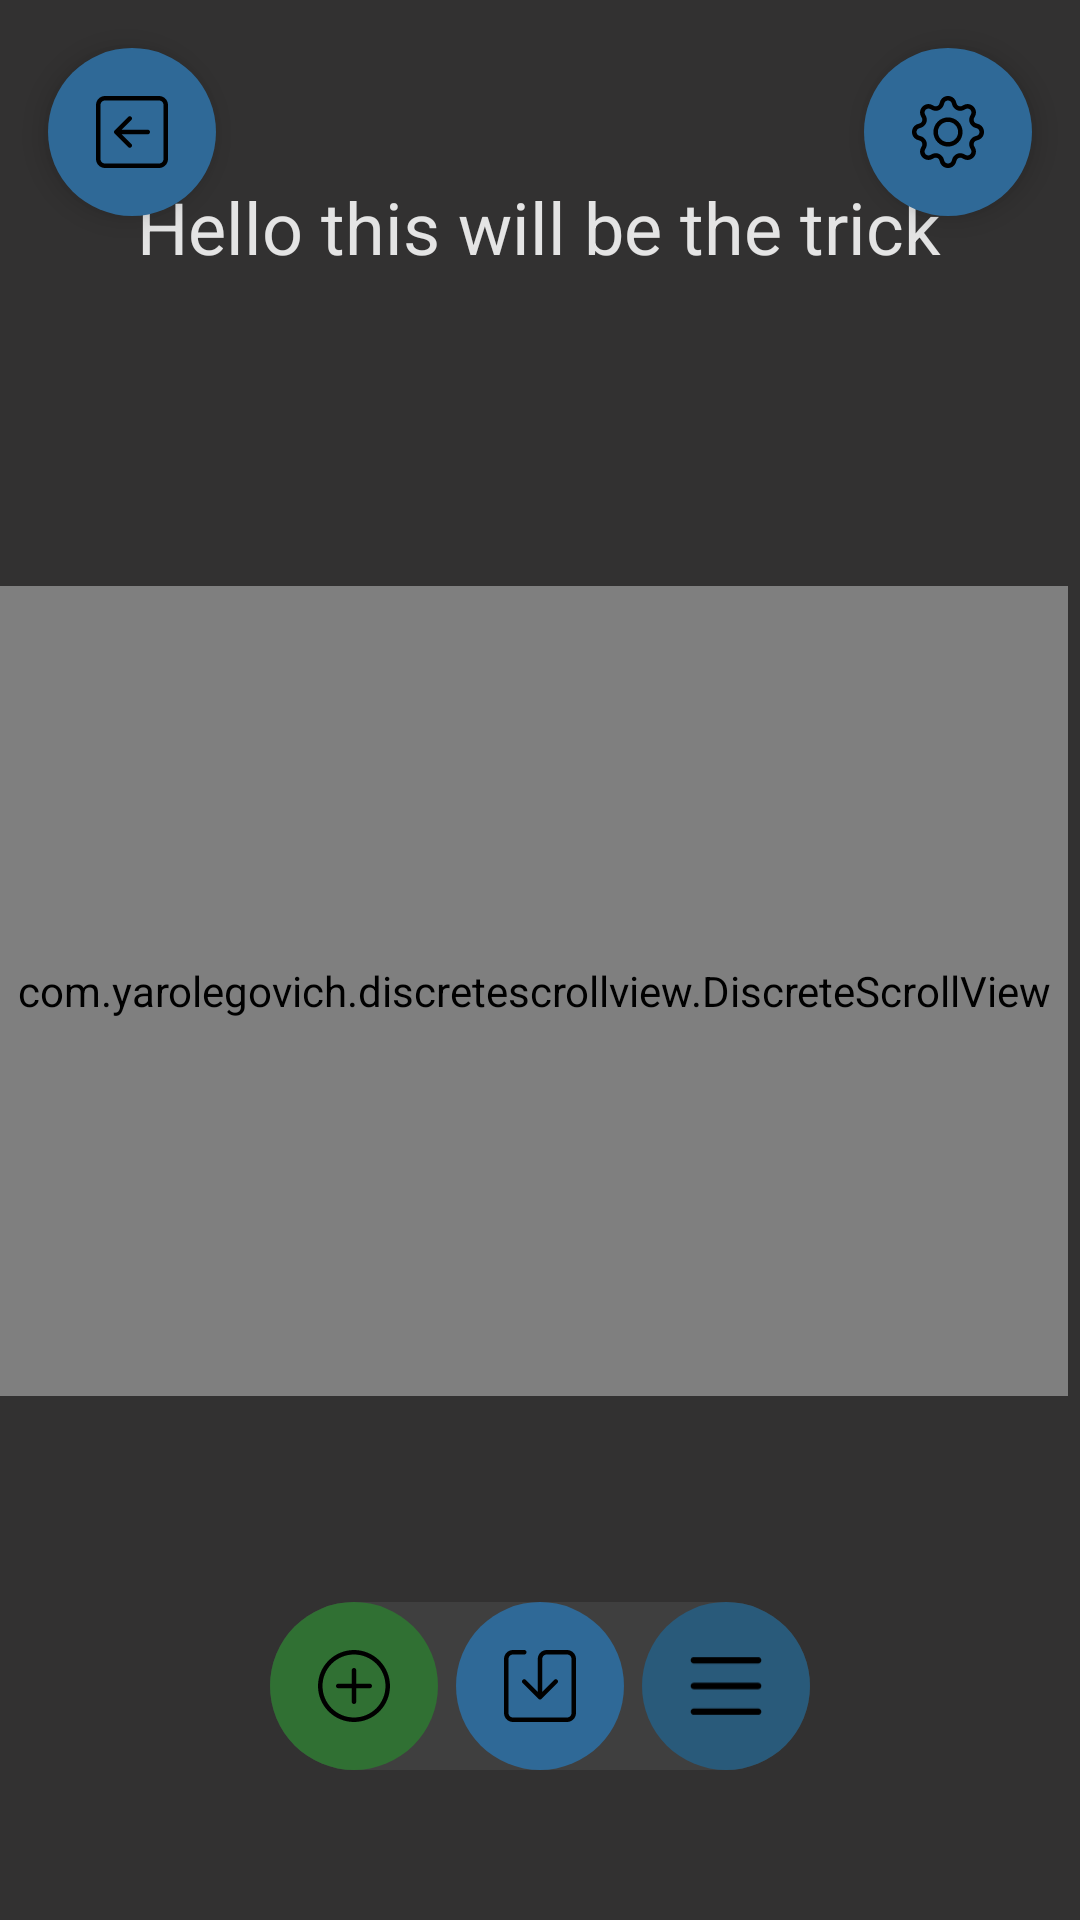

Point at icon controls on the screen. Image size 1080w x 1920h, points as (x=x, y=y).
back: (x=132, y=132)
options: (x=726, y=1686)
plus: (x=354, y=1686)
save: (x=540, y=1686)
settings: (x=948, y=132)
